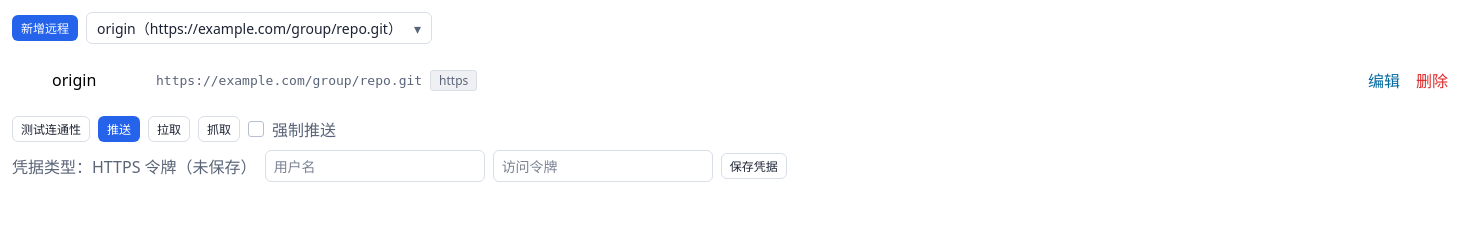
Test: RemoteManager（T6-03 远程与凭据） › 推送默认不带 force；进度事件按 phase 回显
This screenshot has width=1464, height=231.
Expected: the checkbox named "强制推送" is not checked, [248,121,264,137]
Click the button with test id "remote-push": coordinates (119, 129) [98,116,140,142]
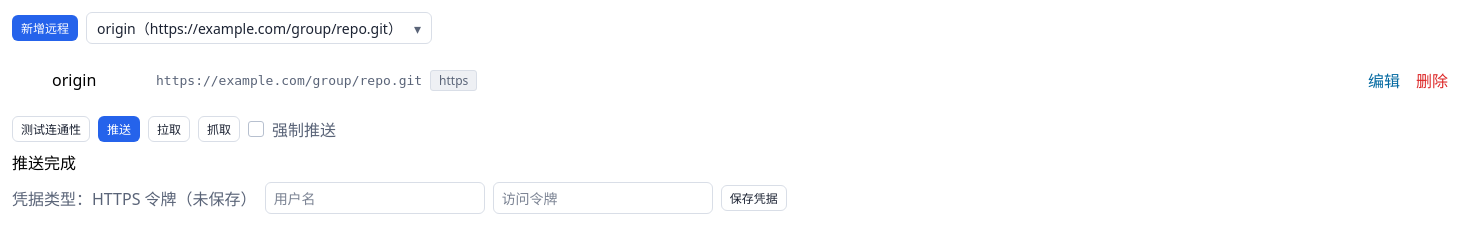
Expected: the message with test id "remote-progress" reads "推送完成", [12,152,76,174]
